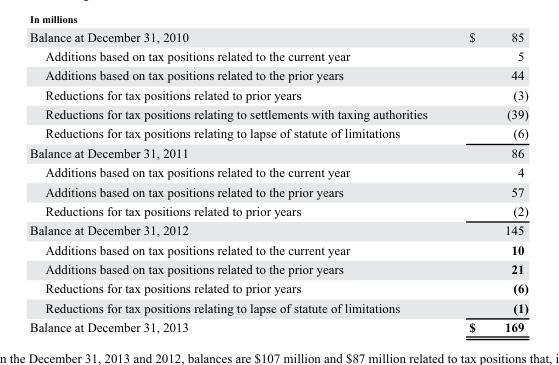table: (29, 29, 527, 334)
table column: (29, 29, 447, 334), (447, 29, 527, 334)
table row: (29, 45, 527, 65), (29, 103, 527, 123), (29, 142, 527, 162), (29, 200, 527, 220), (29, 239, 527, 259), (29, 297, 527, 317), (29, 65, 527, 84), (29, 84, 527, 103), (29, 123, 527, 142), (29, 162, 527, 181), (29, 181, 527, 200), (29, 220, 527, 239), (29, 259, 527, 278), (29, 278, 527, 297), (29, 317, 527, 334), (29, 29, 527, 45)
